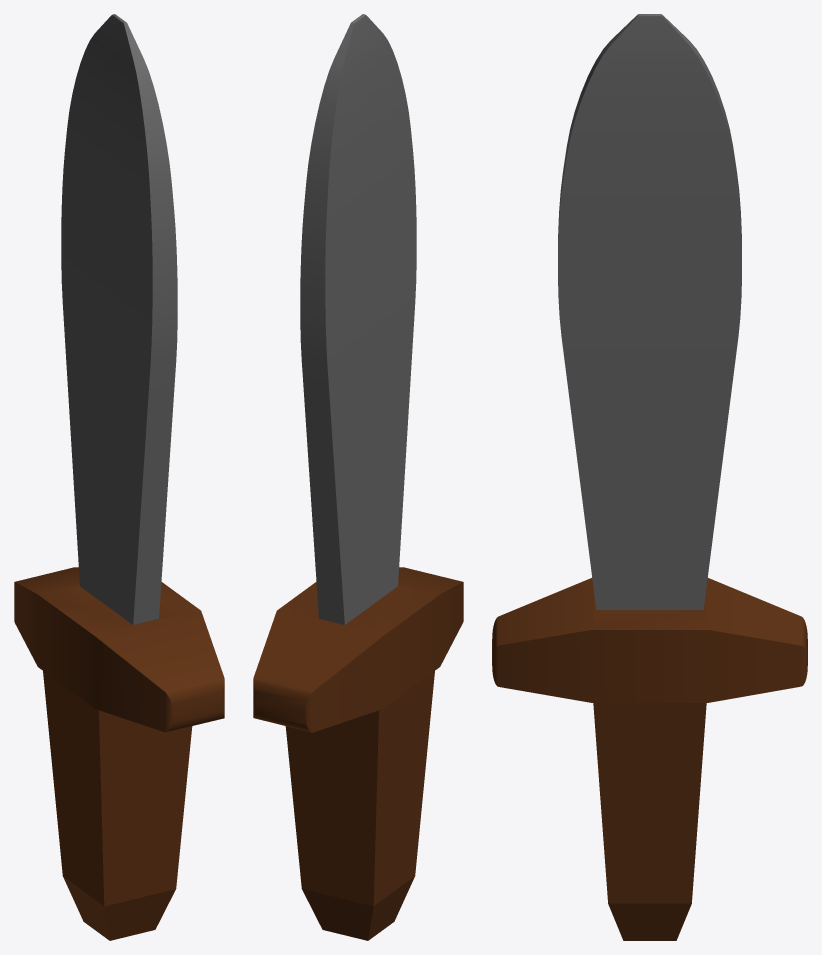
Rendered from Sword.fbx.
3 views of the same model, side by side, from view 1: azimuth 30°, elevation 25°; view 2: azimuth 150°, elevation 25°; view 3: azimuth 270°, elevation 25° (orthographic).
Visible parts, largest first — view 1: Cube; view 2: Cube; view 3: Cube.
Boxes of the visible parts, bbox=[...] form: Cube: bbox=[14, 14, 224, 940]; Cube: bbox=[253, 14, 463, 940]; Cube: bbox=[492, 14, 807, 940].
Bounding box in the file's own units: 32.01 × 262 × 81.99.
